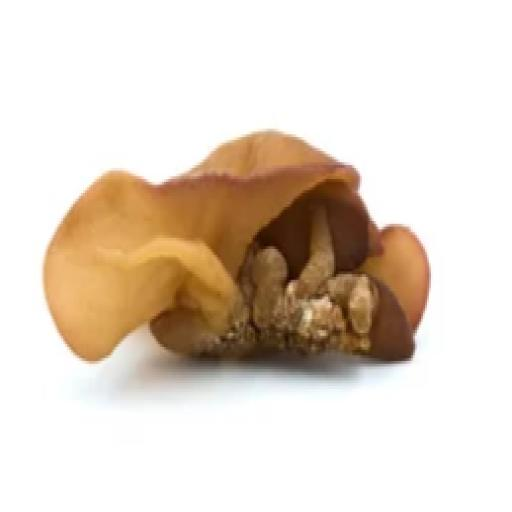Wood Ear Mushroom: (39, 99, 438, 391)
